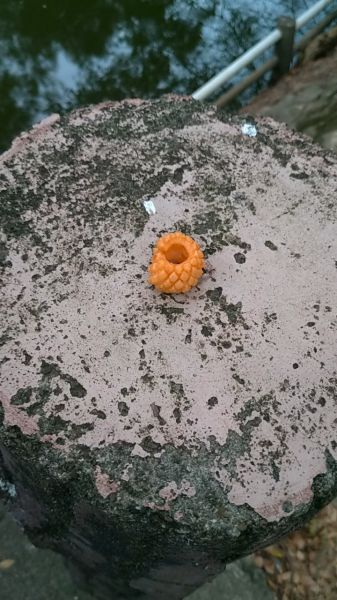eggs: (143, 228, 206, 295)
